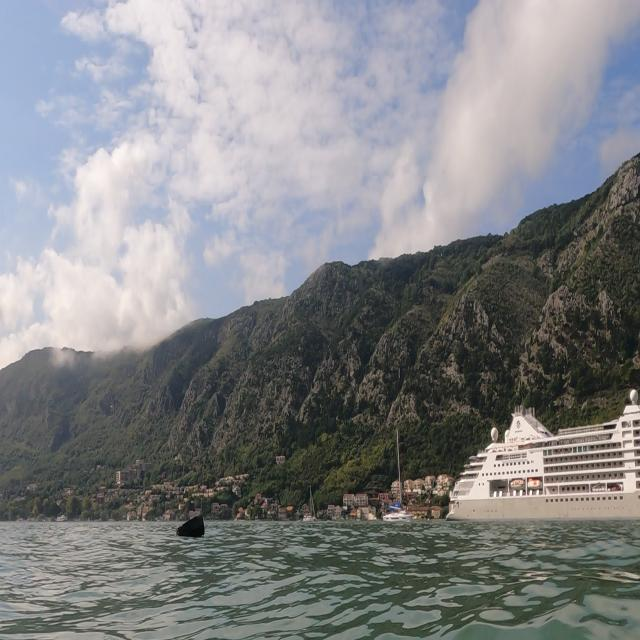boat: (444, 386, 638, 523), (380, 416, 420, 534)
buoy: (170, 506, 210, 546)
